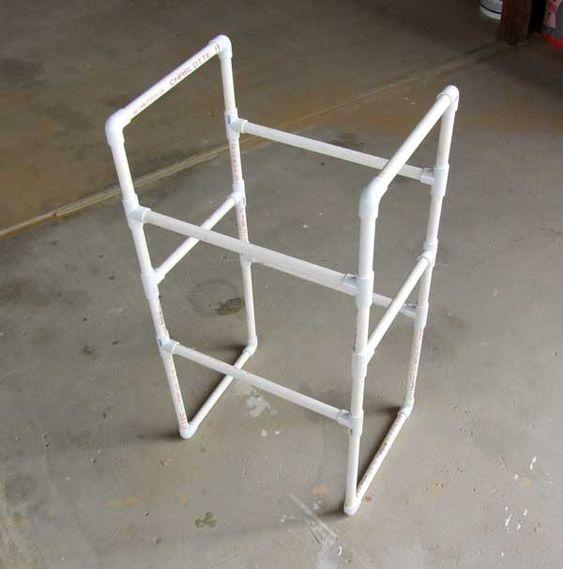PVC: (19, 0, 501, 538)
